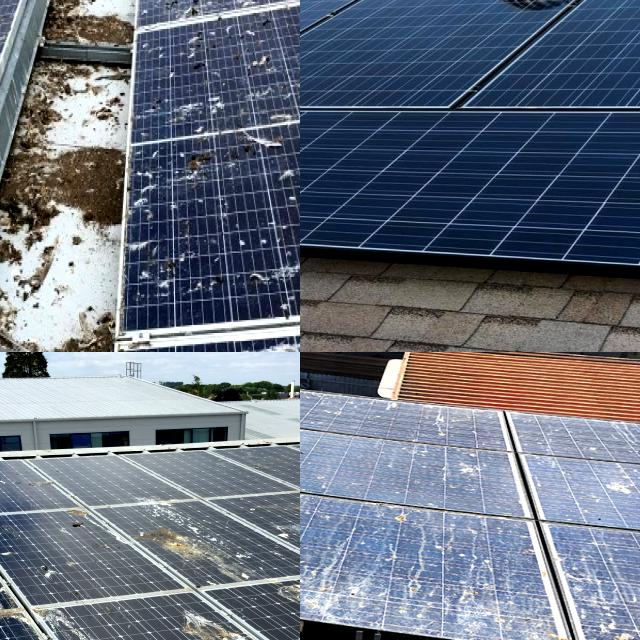bird: (147, 498, 270, 592), (368, 496, 443, 602), (469, 559, 551, 640), (164, 594, 265, 640), (0, 522, 41, 625), (134, 256, 219, 302), (249, 244, 300, 319), (300, 467, 344, 545), (180, 132, 232, 186), (600, 571, 640, 640), (252, 14, 288, 90), (446, 448, 508, 489), (588, 468, 640, 512), (300, 483, 345, 533), (300, 555, 351, 599), (0, 538, 28, 612), (0, 14, 37, 68), (0, 220, 47, 262), (172, 41, 216, 84), (300, 548, 343, 587), (0, 323, 55, 352), (0, 270, 40, 309), (158, 0, 211, 27), (277, 153, 300, 211), (0, 92, 17, 161), (0, 127, 15, 168), (0, 99, 12, 135), (0, 32, 11, 66)
crack: (300, 75, 640, 352), (300, 0, 595, 143), (472, 0, 640, 228), (300, 0, 483, 136)
